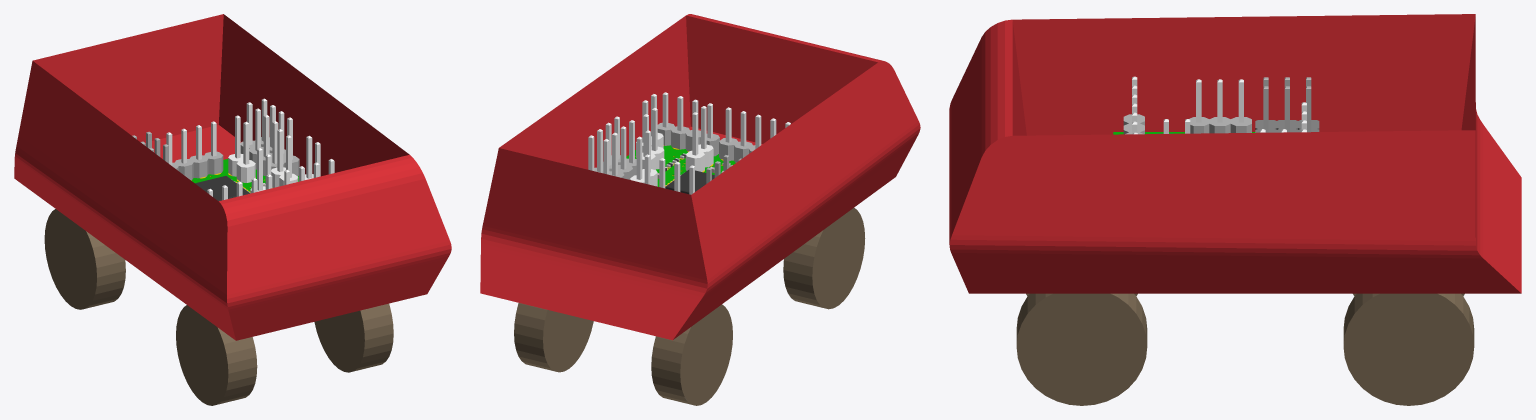
File: IITB_Car.fbx
3 views of the same model, side by side, from view 1: azimuth 30°, elevation 25°; view 2: azimuth 150°, elevation 25°; view 3: azimuth 270°, elevation 25° (orthographic). The views are drawn at different scales.
Parts seen in each view (by area): view 1: Plane, Circle, Circle.002, Circle.001, Body1.023, Body1.016, Body1.021, Body1.022, Body1.005, Body1.020, Body1.019, Body1.004 (+1 smaller); view 2: Plane, Circle.002, Circle, Circle.003, Body1.023, Body1.017, Body1.004, Body1.019, Body1.016, Body1.002, Body1.022, Body1.021 (+2 smaller); view 3: Plane, Circle.001, Circle.003, Body1.008, Body1.024, Body1.004.
Part boxes in pixels (x1=…): Plane: x1=14, y1=14, x2=451, y2=340; Circle: x1=176, y1=305, x2=257, y2=405; Circle.002: x1=44, y1=209, x2=125, y2=309; Circle.001: x1=314, y1=303, x2=393, y2=372; Body1.023: x1=240, y1=98, x2=299, y2=176; Body1.016: x1=166, y1=121, x2=223, y2=180; Body1.021: x1=228, y1=115, x2=255, y2=182; Body1.022: x1=271, y1=129, x2=298, y2=187; Body1.005: x1=195, y1=176, x2=250, y2=201; Body1.020: x1=305, y1=135, x2=320, y2=179; Body1.019: x1=250, y1=148, x2=271, y2=193; Body1.004: x1=207, y1=174, x2=272, y2=200; Plane: x1=480, y1=14, x2=920, y2=340; Circle.002: x1=651, y1=304, x2=732, y2=405; Circle: x1=783, y1=208, x2=865, y2=309; Circle.003: x1=514, y1=303, x2=593, y2=372; Body1.023: x1=588, y1=116, x2=636, y2=179; Body1.017: x1=657, y1=92, x2=719, y2=156; Body1.004: x1=719, y1=107, x2=790, y2=162; Body1.019: x1=685, y1=106, x2=713, y2=171; Body1.016: x1=644, y1=154, x2=694, y2=194; Body1.002: x1=626, y1=145, x2=735, y2=186; Body1.022: x1=642, y1=108, x2=664, y2=169; Body1.021: x1=630, y1=130, x2=657, y2=186; Plane: x1=949, y1=14, x2=1521, y2=293; Circle.001: x1=1016, y1=293, x2=1147, y2=405; Circle.003: x1=1343, y1=293, x2=1474, y2=405; Body1.008: x1=1189, y1=79, x2=1251, y2=133; Body1.024: x1=1255, y1=77, x2=1319, y2=132; Body1.004: x1=1123, y1=76, x2=1144, y2=134.
Bounding box in the file's own units: 494 × 480 × 875.
13 materials, 2 textured.
